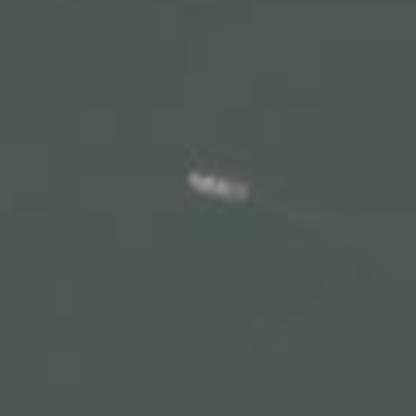ship: (180, 161, 258, 212)
